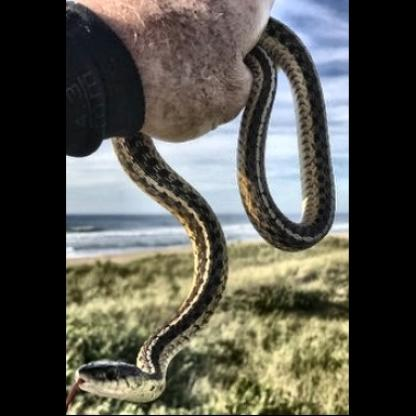Snake: (70, 155, 235, 413)
